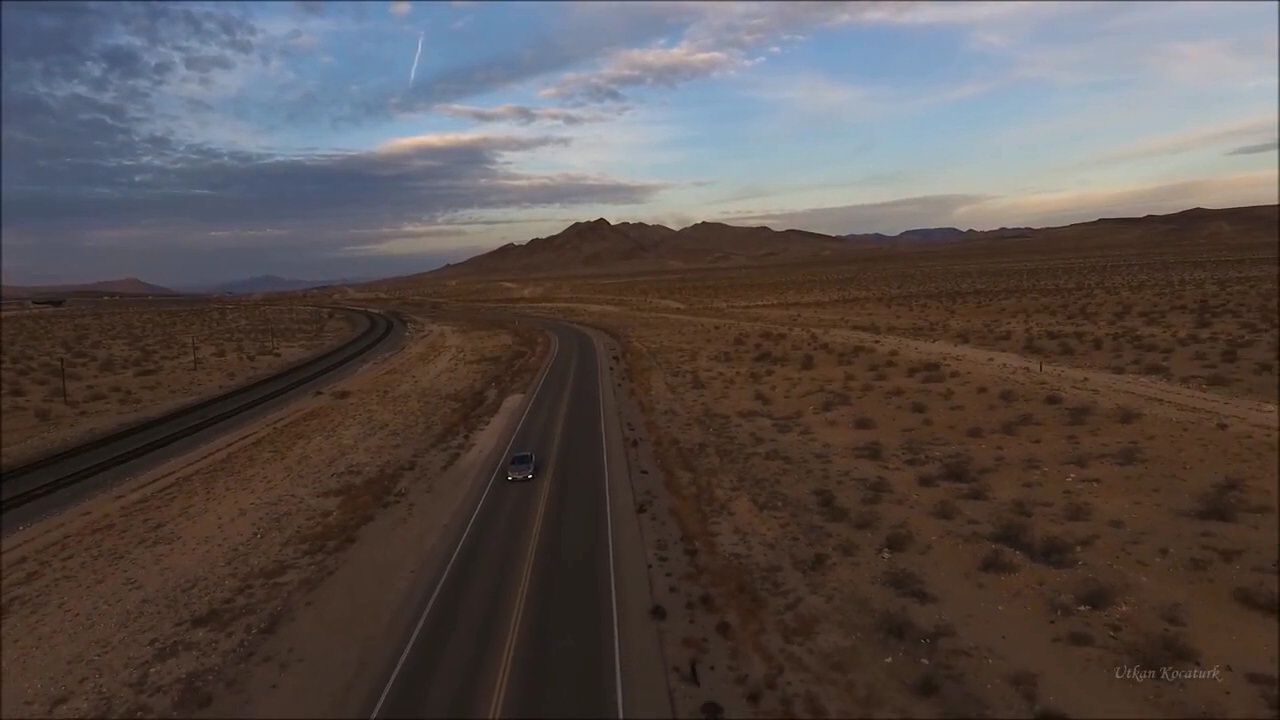araba: (504, 447, 539, 483)
